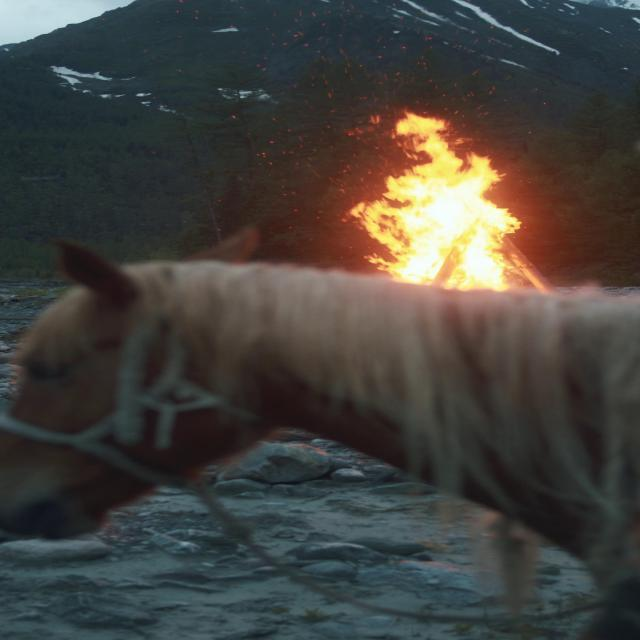Fire: (339, 111, 542, 292)
